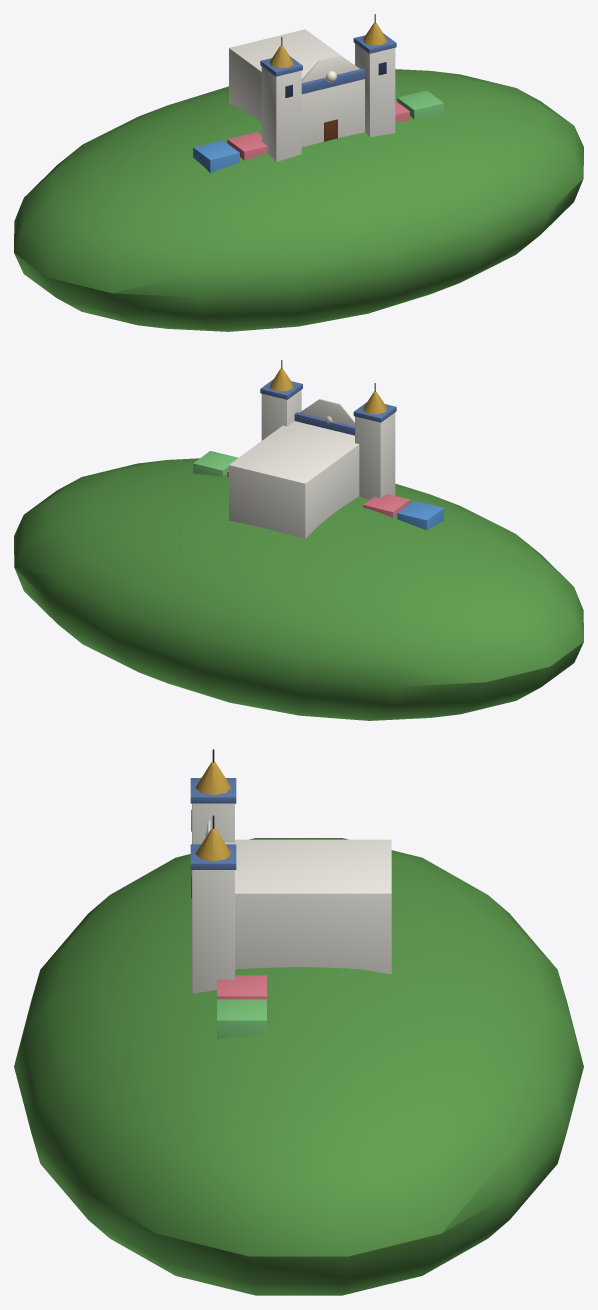
Rendered from marco_olinda.glb.
3 views of the same model, one above another, from view 1: azimuth 30°, elevation 25°; view 2: azimuth 150°, elevation 25°; view 3: azimuth 270°, elevation 25° (orthographic). The views are drawn at different scales.
Visible parts, largest first — view 1: marco_olinda; view 2: marco_olinda; view 3: marco_olinda.
Boxes of the visible parts, <box> form: marco_olinda: <box>14,14,583,331</box>; marco_olinda: <box>14,360,583,720</box>; marco_olinda: <box>14,749,583,1295</box>.
Size of the model in its own units: 126 by 64 by 80.
